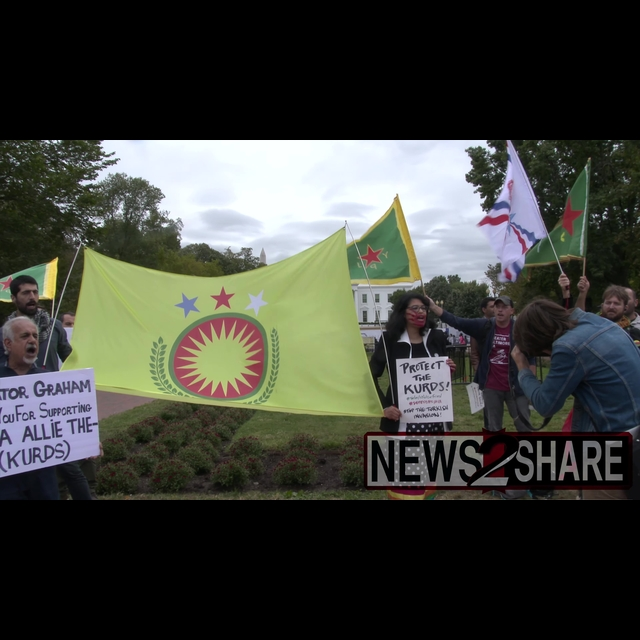YPJ: (353, 239, 399, 274)
